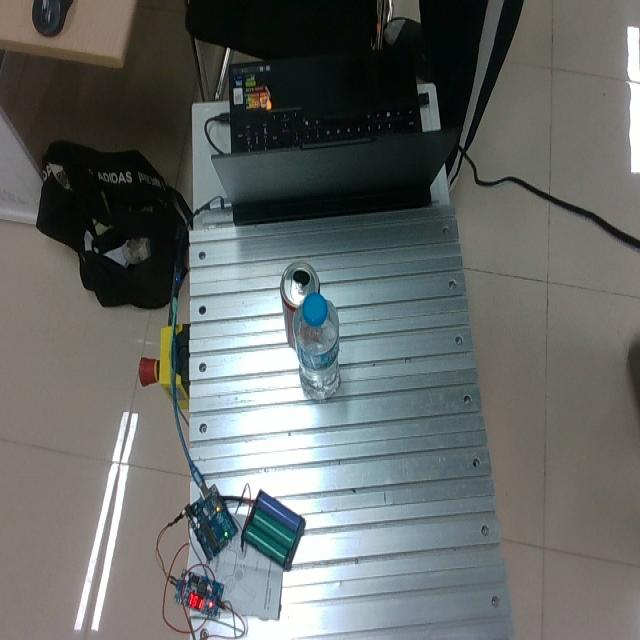coca: (279, 260, 319, 353)
lavie: (292, 292, 340, 400)
